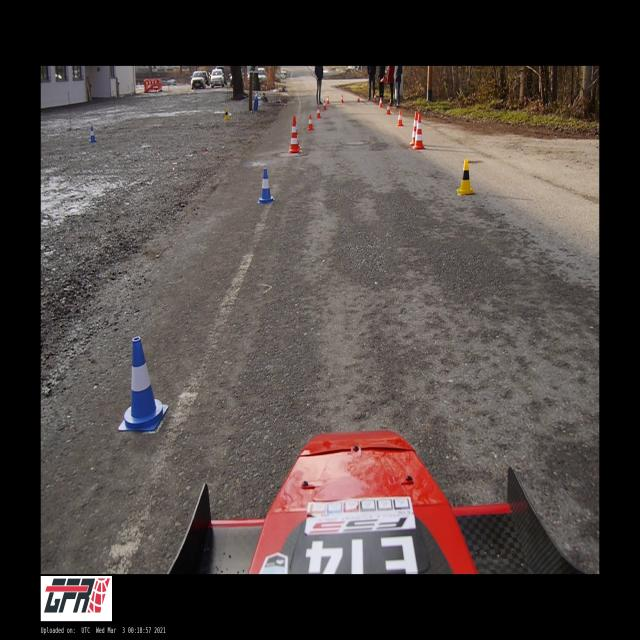blue_cone: (119, 337, 168, 431), (258, 168, 273, 204), (90, 127, 96, 142), (255, 92, 258, 100)
large_orange_cone: (413, 114, 425, 149), (288, 118, 300, 152), (411, 111, 418, 144)
orange_cone: (308, 115, 314, 130), (398, 110, 403, 126), (316, 106, 321, 118), (386, 102, 391, 114), (379, 98, 383, 108), (323, 100, 326, 110), (341, 95, 344, 103), (357, 94, 360, 102), (327, 96, 329, 104), (374, 93, 376, 101)
yellow_cone: (457, 159, 474, 194), (224, 108, 229, 119)
